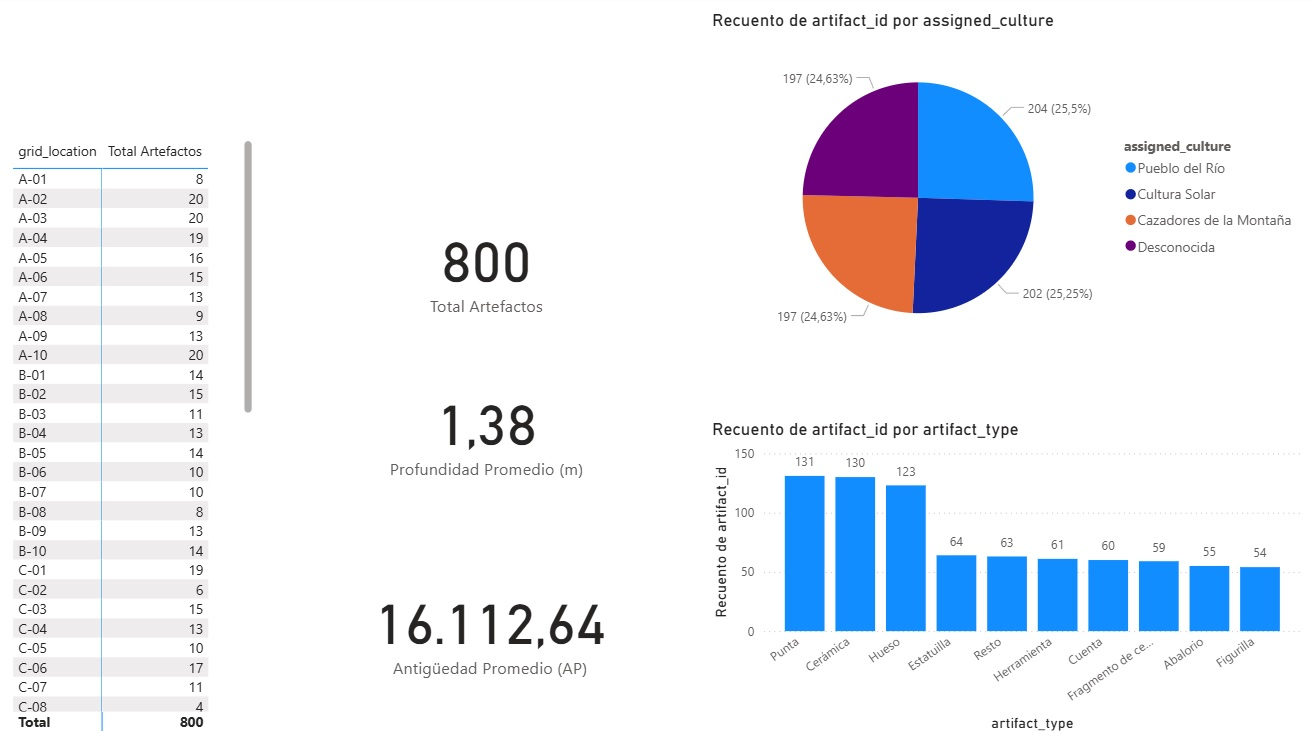

The page's visual inventory and layout, read from the dashboard file:
{"tool":"powerbi","page":{"name":"Página 1","canvas":[1280,720],"ordinal":0},"visuals":[{"type":"card","fields":{"Values":["Registro_de_Campo_raw.Total Artefactos"]},"box":[260.7,165.3,428.9,194.5],"z":0},{"type":"card","fields":{"Values":["Registro_de_Campo_raw.Profundidad Promedio (m)"]},"box":[260.7,333.6,428.9,176],"z":1000},{"type":"card","fields":{"Values":["Registro_de_Campo_raw.Antigüedad Promedio (AP)"]},"box":[267.5,509.7,422.1,210.1],"z":2000},{"type":"pivotTable","fields":{"Rows":["Registro_de_Campo_raw.grid_location"],"Values":["Registro_de_Campo_raw.Total Artefactos"]},"box":[9.7,135.2,243.2,584.6],"z":3000},{"type":"clusteredColumnChart","fields":{"Category":["Registro_de_Campo_raw.artifact_type"],"Y":["CountNonNull(Registro_de_Campo_raw.artifact_id)"]},"box":[689.6,411.4,582.6,308.3],"z":4000},{"type":"pieChart","fields":{"Category":["Analisis_Laboratorio.assigned_culture"],"Y":["CountNonNull(Registro_de_Campo_raw.artifact_id)"]},"box":[689.6,13.6,582.6,346.3],"z":5000}]}

Visuals, with their boxes in screenshot pixels (x1, y1, x2, y2), scaled from the page's 1280x720 canvas onto the 1312x731 screenshot:
card - Registro_de_Campo_raw.Total Artefactos: <box>267,168,707,365</box>
card - Registro_de_Campo_raw.Profundidad Promedio (m): <box>267,339,707,517</box>
card - Registro_de_Campo_raw.Antigüedad Promedio (AP): <box>274,517,707,730</box>
pivotTable - Registro_de_Campo_raw.grid_location x Registro_de_Campo_raw.Total Artefactos: <box>10,137,259,730</box>
clusteredColumnChart - Registro_de_Campo_raw.artifact_type x CountNonNull(Registro_de_Campo_raw.artifact_id): <box>707,418,1304,730</box>
pieChart - Analisis_Laboratorio.assigned_culture x CountNonNull(Registro_de_Campo_raw.artifact_id): <box>707,14,1304,365</box>
